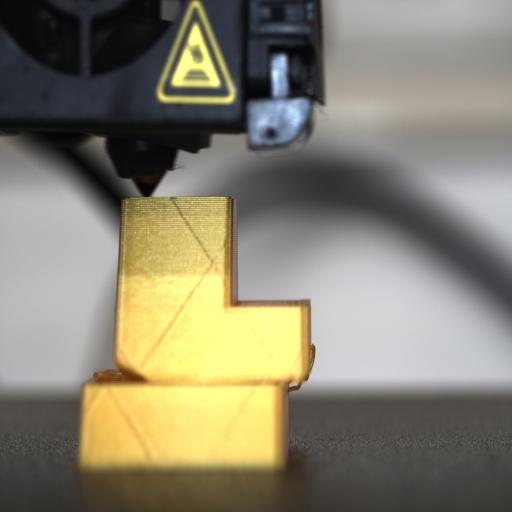layer_shift: (80, 361, 312, 391)
